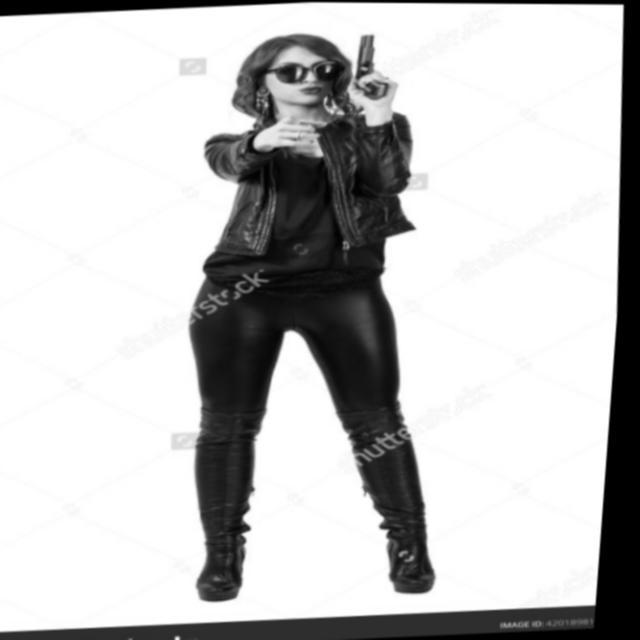weapon: (352, 32, 393, 100)
